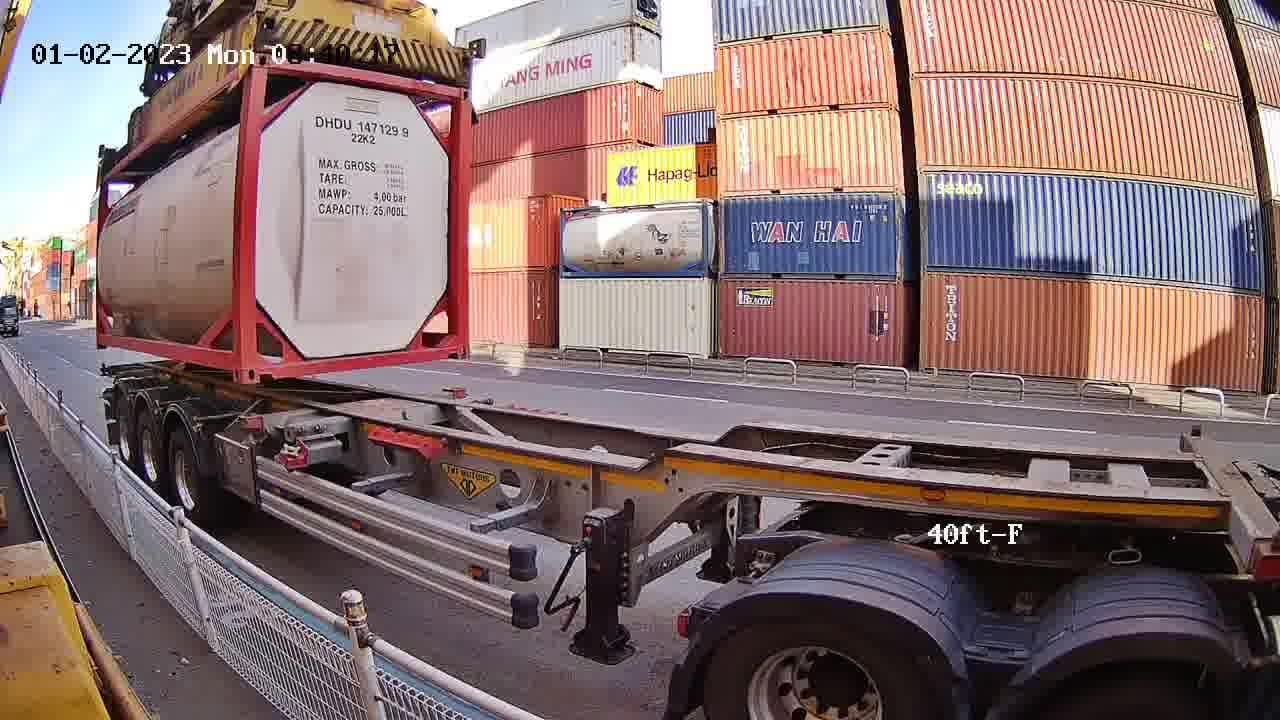Chassis: (242, 387, 465, 422)
Cone: (238, 414, 262, 449)
Hole_L: (242, 345, 276, 384)
Hole_R: (218, 347, 243, 384), (444, 330, 470, 361)
Tire: (165, 432, 203, 519), (137, 415, 163, 491), (114, 399, 138, 471)
